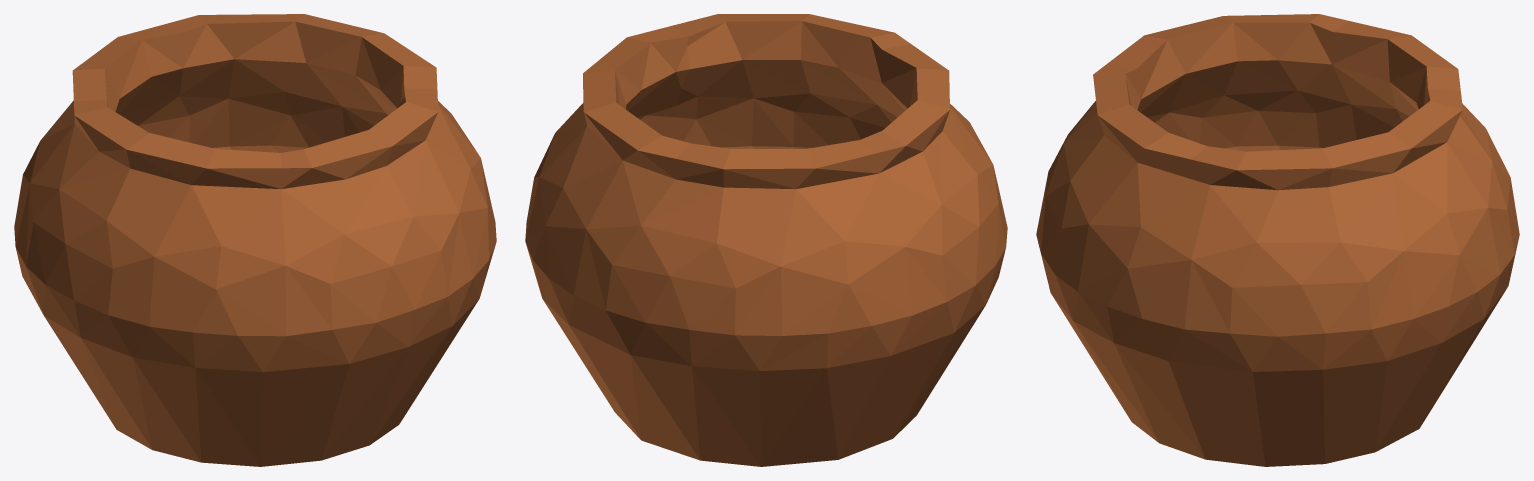
File: Pottery 3_1b.fbx
3 renders of one model, left to right at view 1: azimuth 30°, elevation 25°; view 2: azimuth 150°, elevation 25°; view 3: azimuth 270°, elevation 25°, orthographic.
Parts seen in each view (by area): view 1: Pottery 3_1b.003, Pottery 3_1b.004, Pottery 3_1b.001, Pottery 3_1b, Pottery 3_1b.002, Pottery 3_1b.005; view 2: Pottery 3_1b.002, Pottery 3_1b, Pottery 3_1b.003, Pottery 3_1b.004, Pottery 3_1b.001, Pottery 3_1b.005; view 3: Pottery 3_1b.005, Pottery 3_1b.001, Pottery 3_1b.003, Pottery 3_1b.004, Pottery 3_1b, Pottery 3_1b.002.
Part boxes in pixels (x1,y1,x2,y2): Pottery 3_1b.003: (14, 99, 285, 413); Pottery 3_1b.004: (238, 88, 496, 390); Pottery 3_1b.001: (163, 14, 385, 152); Pottery 3_1b: (79, 300, 478, 466); Pottery 3_1b.002: (40, 25, 189, 142); Pottery 3_1b.005: (355, 33, 496, 239); Pottery 3_1b.002: (606, 140, 878, 370); Pottery 3_1b: (543, 285, 950, 466); Pottery 3_1b.003: (844, 43, 1007, 383); Pottery 3_1b.004: (671, 14, 909, 148); Pottery 3_1b.001: (525, 70, 690, 324); Pottery 3_1b.005: (583, 26, 689, 139); Pottery 3_1b.005: (1142, 146, 1387, 426); Pottery 3_1b.001: (1323, 89, 1514, 360); Pottery 3_1b.003: (1108, 14, 1402, 151); Pottery 3_1b.004: (1036, 63, 1207, 342); Pottery 3_1b: (1077, 255, 1514, 466); Pottery 3_1b.002: (1332, 21, 1519, 278).
Bounding box in the file's own units: 72.77 × 52.6 × 72.77.
